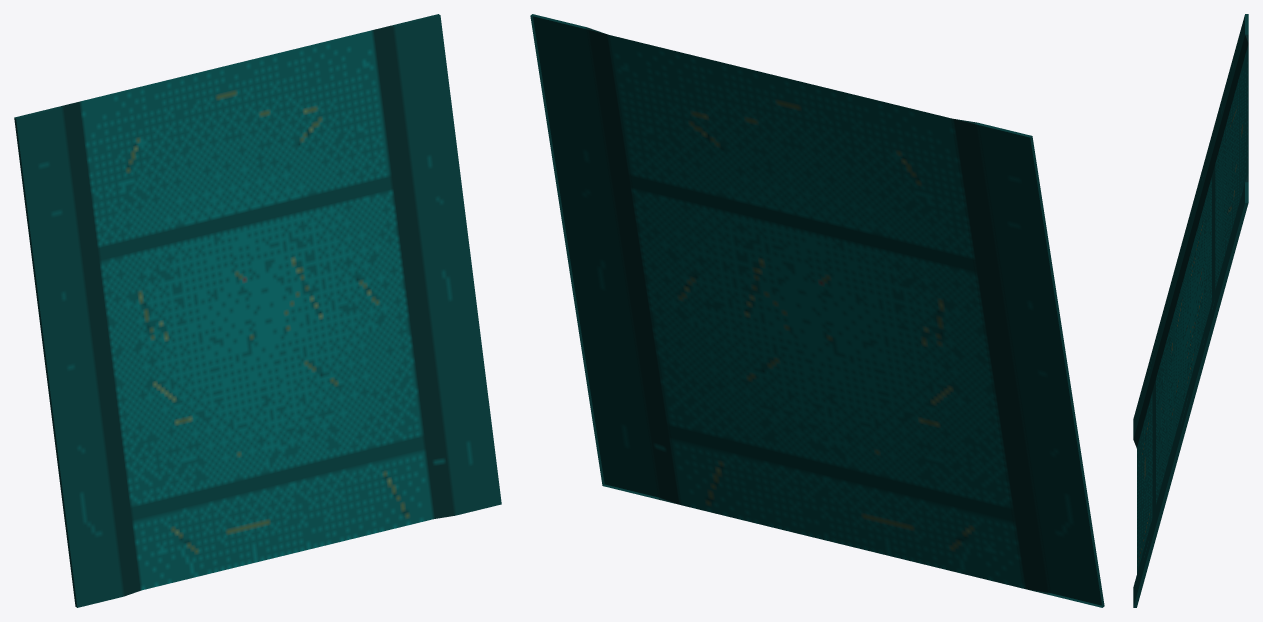
Rendered from med1_9d_ofs64_90.fbx.
3 renders of one model, left to right at view 1: azimuth 30°, elevation 25°; view 2: azimuth 150°, elevation 25°; view 3: azimuth 270°, elevation 25°, orthographic. The views are drawn at different scales.
Visible parts, largest first — view 1: med1_9d_mesh_ofs64_90; view 2: med1_9d_mesh_ofs64_90; view 3: med1_9d_mesh_ofs64_90.
Boxes of the visible parts, box(x1,y1,x2,y2) form: med1_9d_mesh_ofs64_90: box(14, 14, 501, 607); med1_9d_mesh_ofs64_90: box(530, 14, 1104, 607); med1_9d_mesh_ofs64_90: box(1133, 14, 1248, 607).
Bounding box in the file's own units: 256 × 256 × 66.
